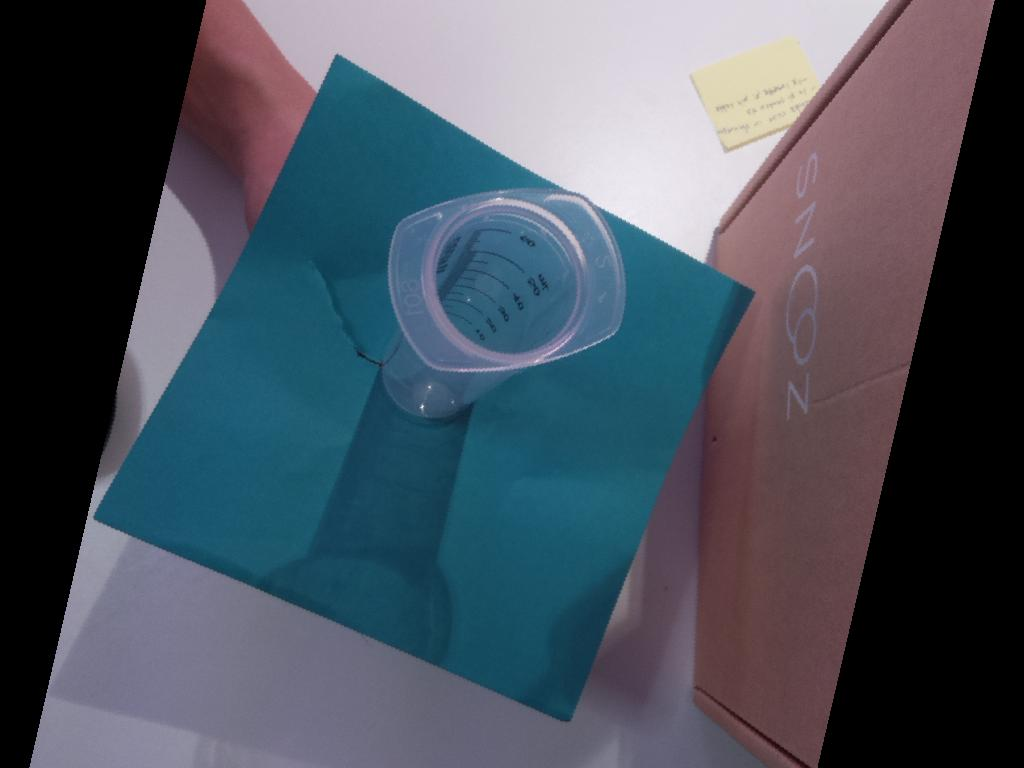clean: (386, 190, 625, 371)
